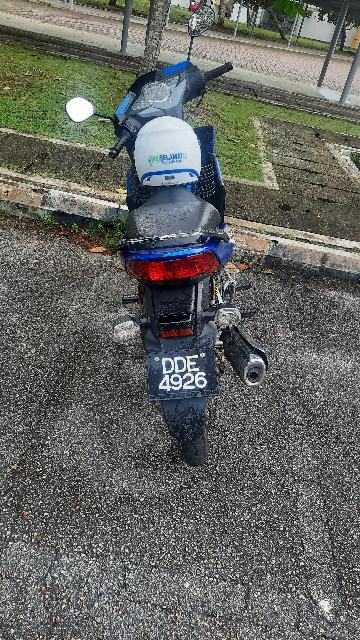License_Plate: (142, 348, 226, 412)
motorcycle: (65, 28, 305, 516)
